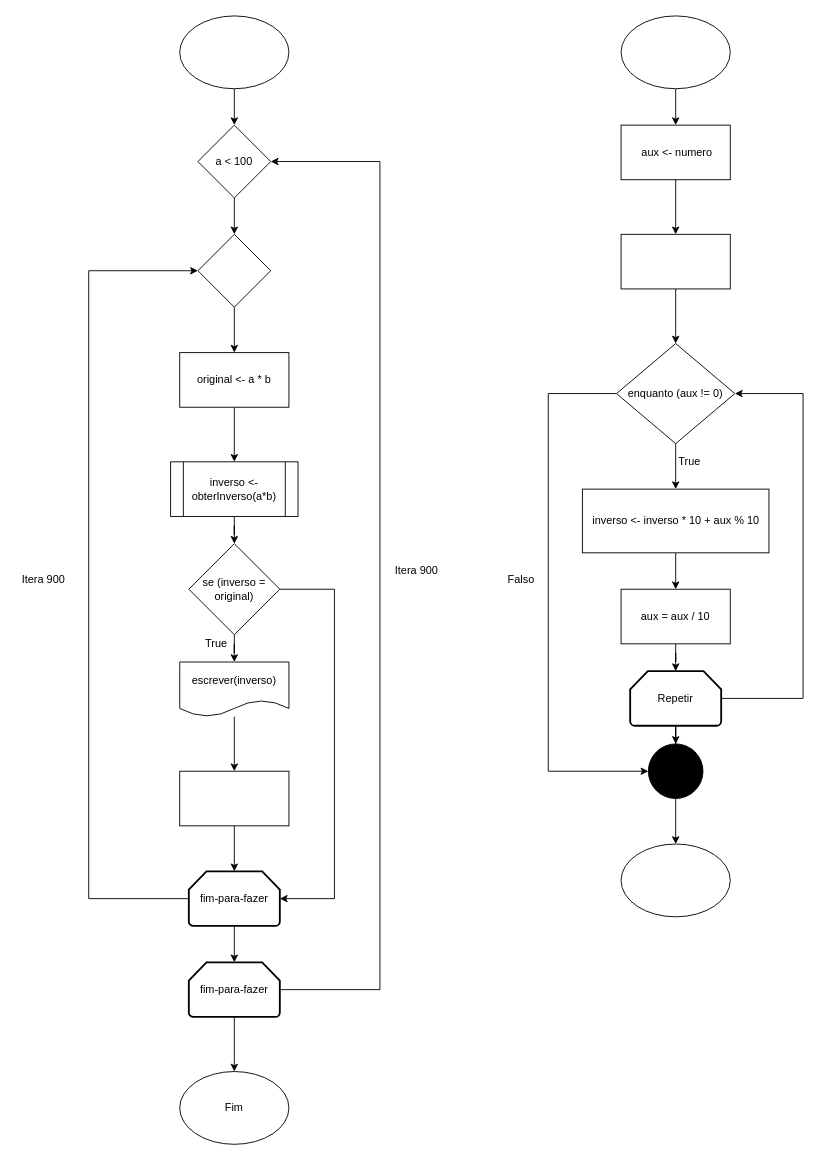
The diagram is 826 pixels wide and 1160 high, and some of its shapes have lost their labels. The shapes that lost their labels are listed below. From the top down, each one's box as (x1, y1, x2, y2) in pixels, then its label:
(179, 15, 289, 89): Inicio
(620, 15, 730, 89): obterInverso (n1)
(197, 233, 271, 307): b < 100
(620, 233, 730, 289): inverso <- 0
(179, 770, 289, 826): terminarprograma
(620, 843, 730, 917): retornar(inverso)
